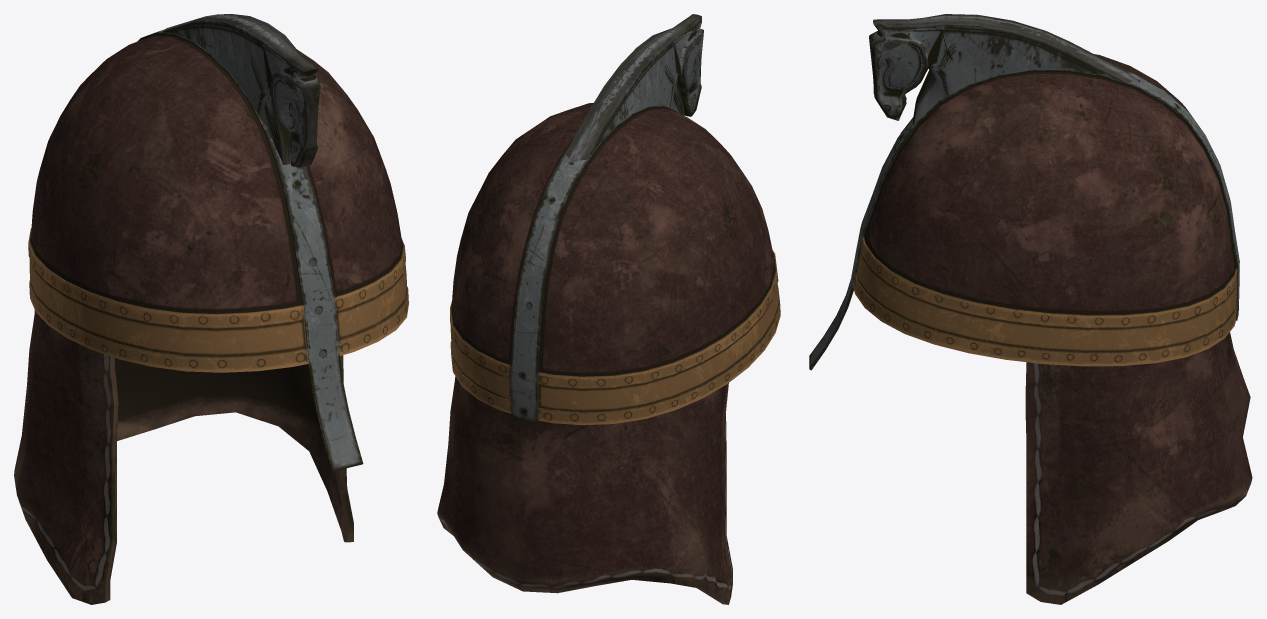
File: cts_rohan_helmet1c.fbx
3 views of the same model, side by side, from view 1: azimuth 30°, elevation 25°; view 2: azimuth 150°, elevation 25°; view 3: azimuth 270°, elevation 25° (orthographic). The views are drawn at different scales.
Parts seen in each view (by area): view 1: cts_rohan_helmet1c; view 2: cts_rohan_helmet1c; view 3: cts_rohan_helmet1c.
Boxes of the visible parts, x1,y1,x2,y2 form: cts_rohan_helmet1c: (14, 14, 408, 604); cts_rohan_helmet1c: (437, 14, 780, 604); cts_rohan_helmet1c: (809, 14, 1252, 604).
Bounding box in the file's own units: 0.1923 × 0.2631 × 0.3448.
1 material, 1 textured.
